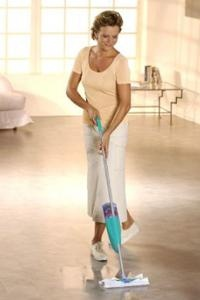person without safety: (62, 9, 141, 263)
